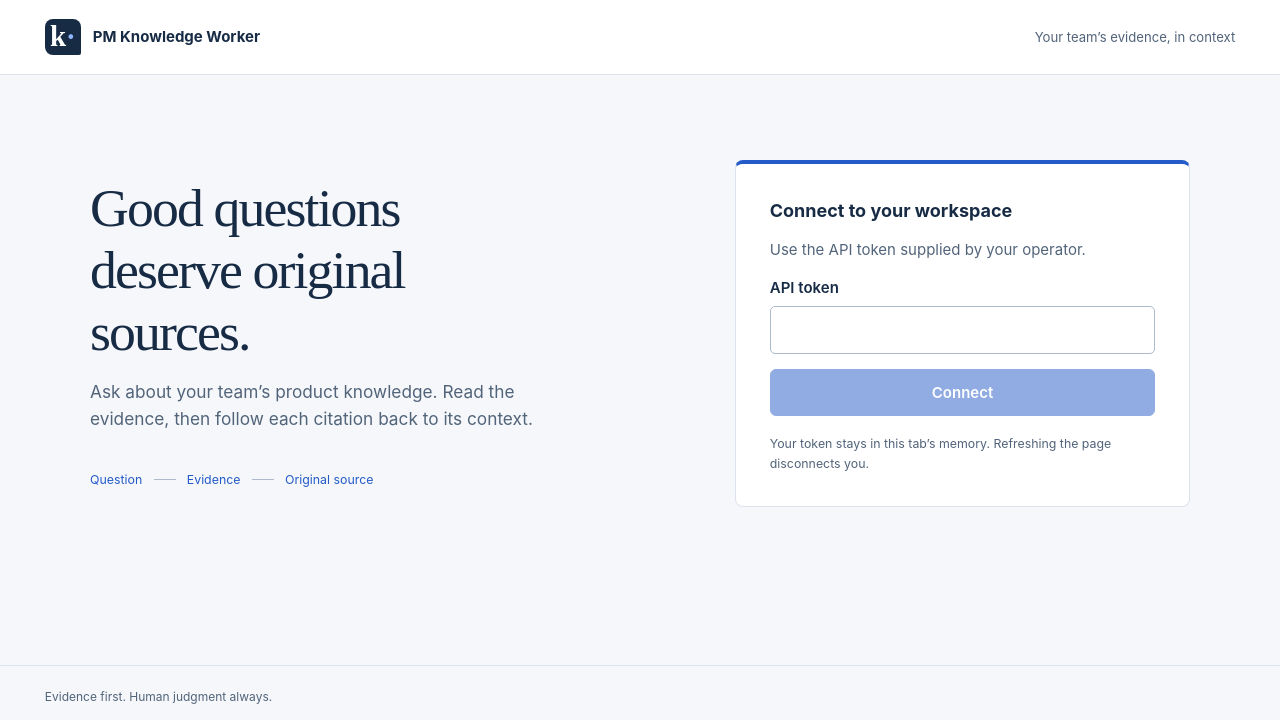
Test: offers uploads only to authorized reader roles
In the password field labelled "API token": [963, 330] box [770,306,1155,354], type "synthetic-token"
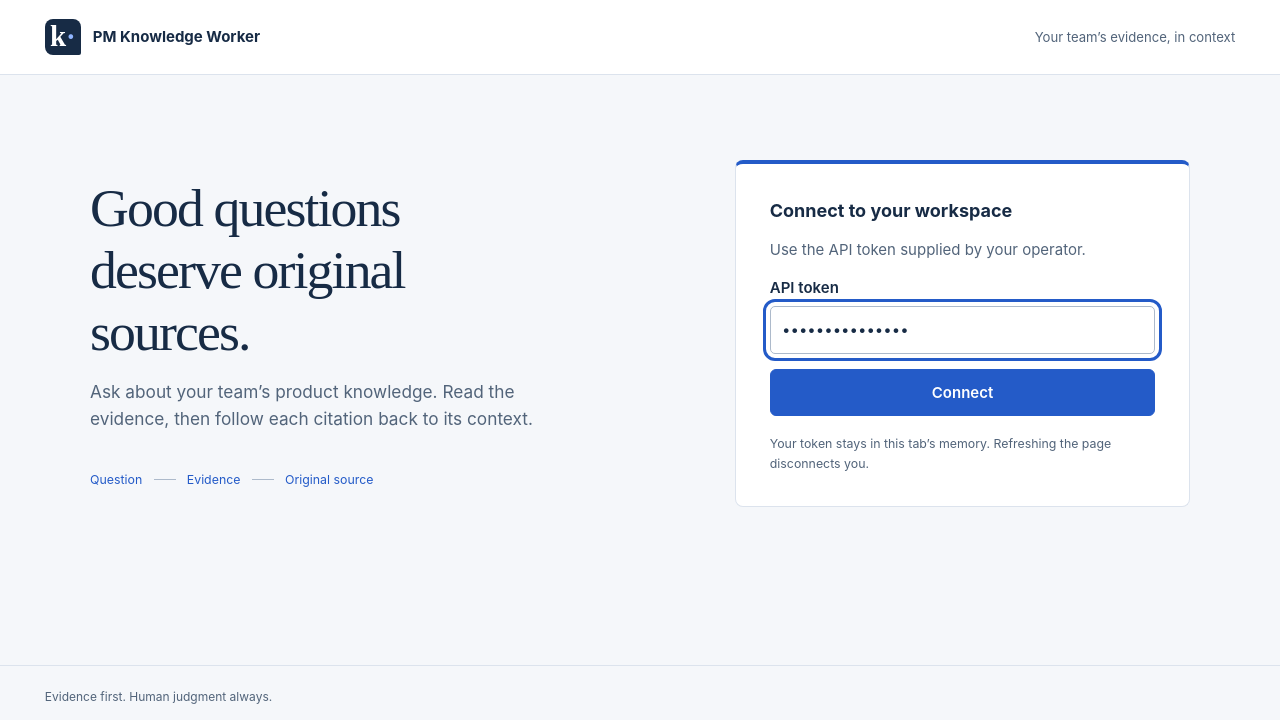
Click the button "Connect": [963, 392] box [770,369,1155,416]
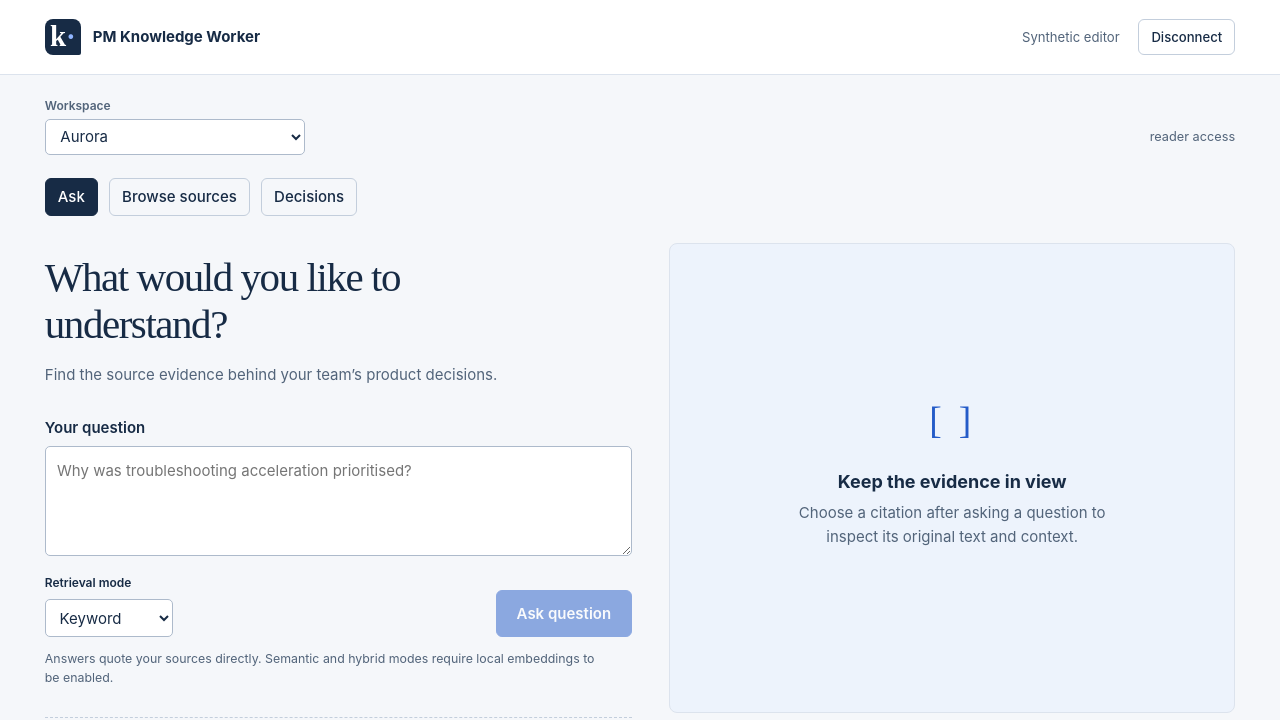
Now the dropdown labelled "Workspace" is shown, box [45,119,305,155]
Click the button "Browse sources": [179, 197] box [109,178,250,216]
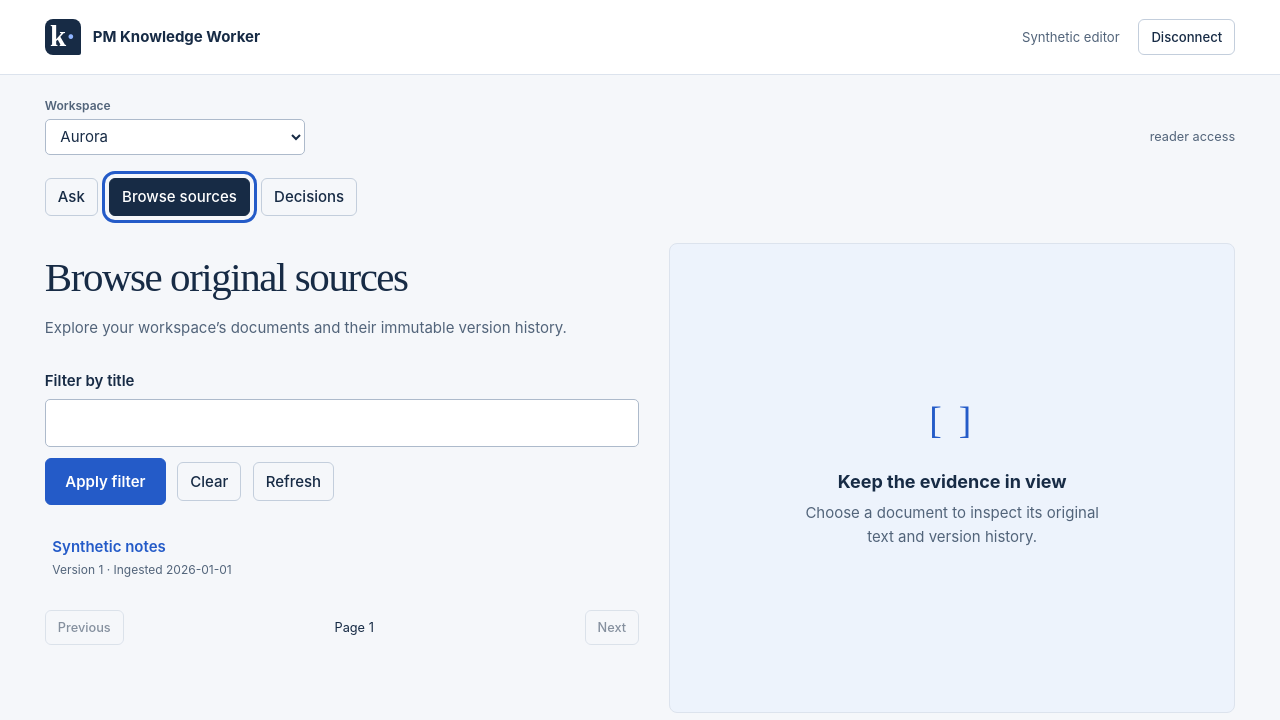
Now the button with aria-label "Open Synthetic notes" is shown
Click the button with aria-label "Open Synthetic notes": [109, 547] box [45,520,639,595]
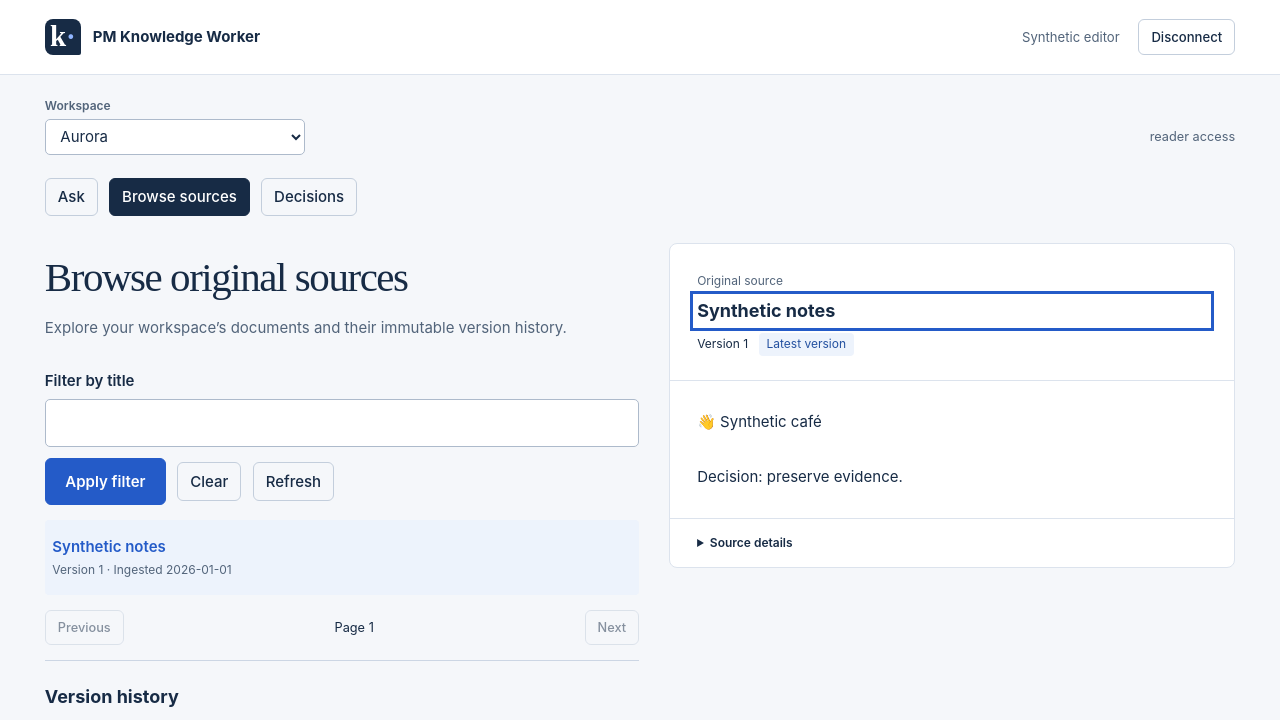
Now the text "👋 Synthetic café Decision: preserve evidence." is shown, box [697,412,903,486]
